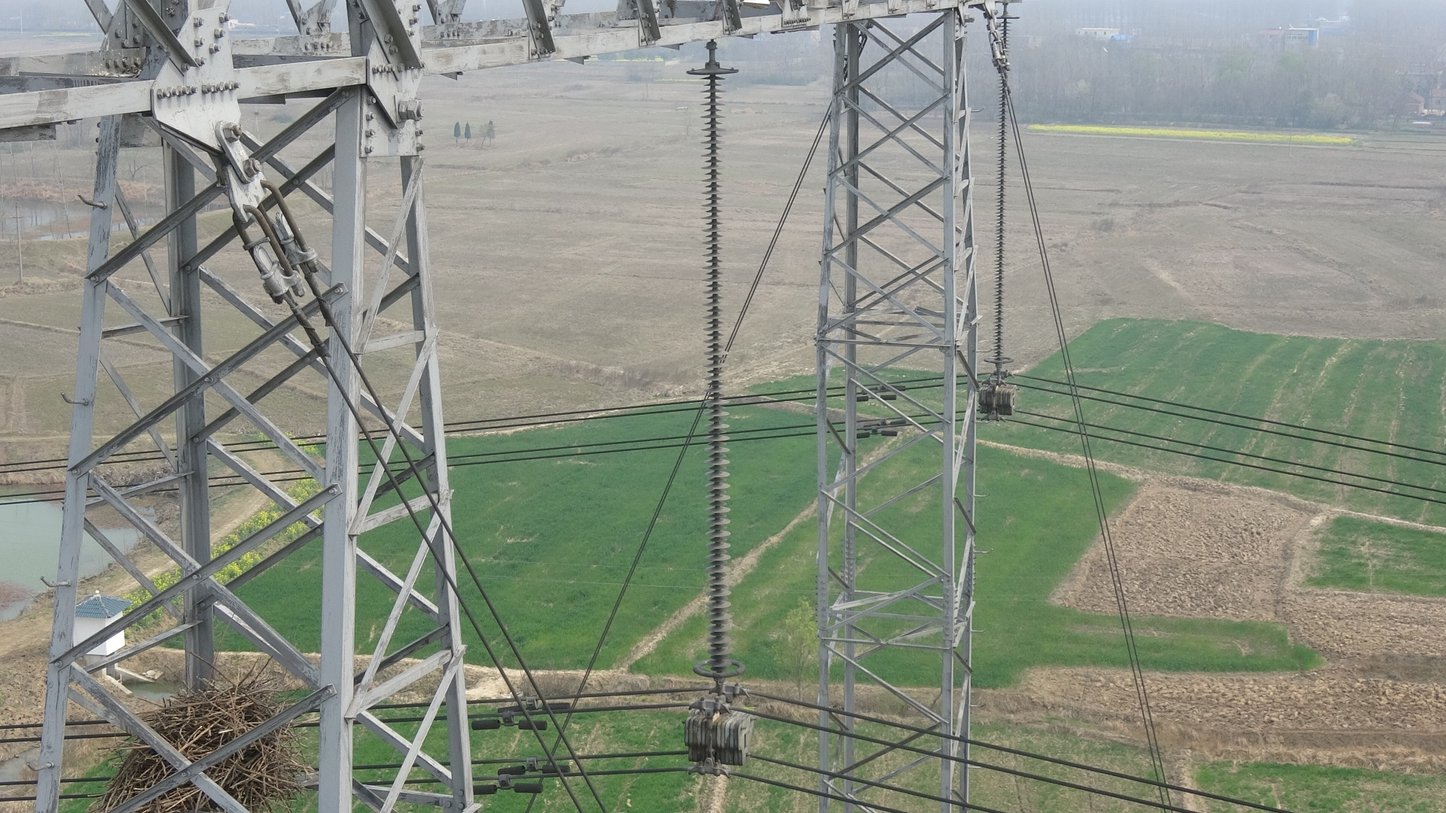insulator: (694, 72, 737, 674), (992, 20, 1013, 360)
